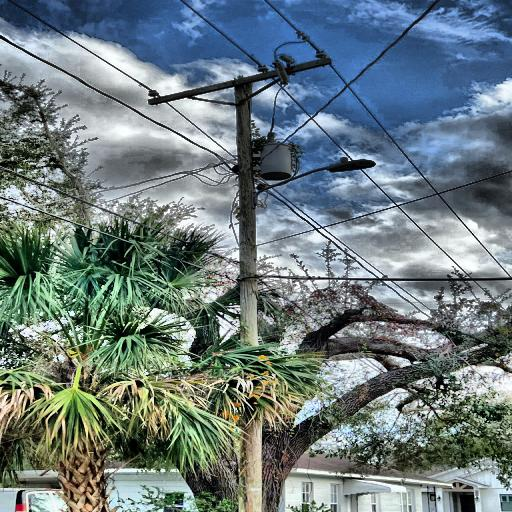pole: (234, 75, 258, 512)
street light: (248, 156, 376, 196)
transformer: (255, 138, 295, 182)
